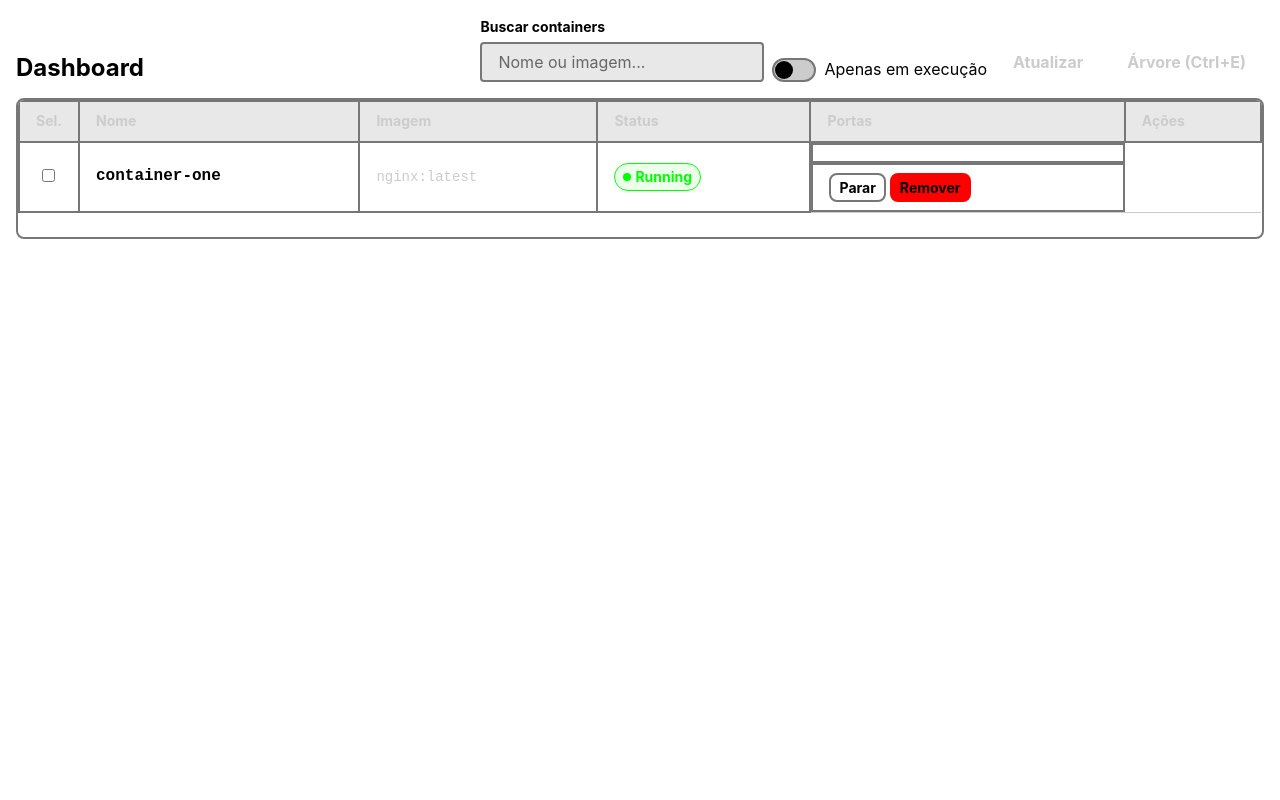
it: Dashboard › remove button opens confirm modal
Expected: the text "container-one" is shown, [79,142,359,212]
Click the button with test id "remove-c1": [930, 187] box [890,173,971,202]
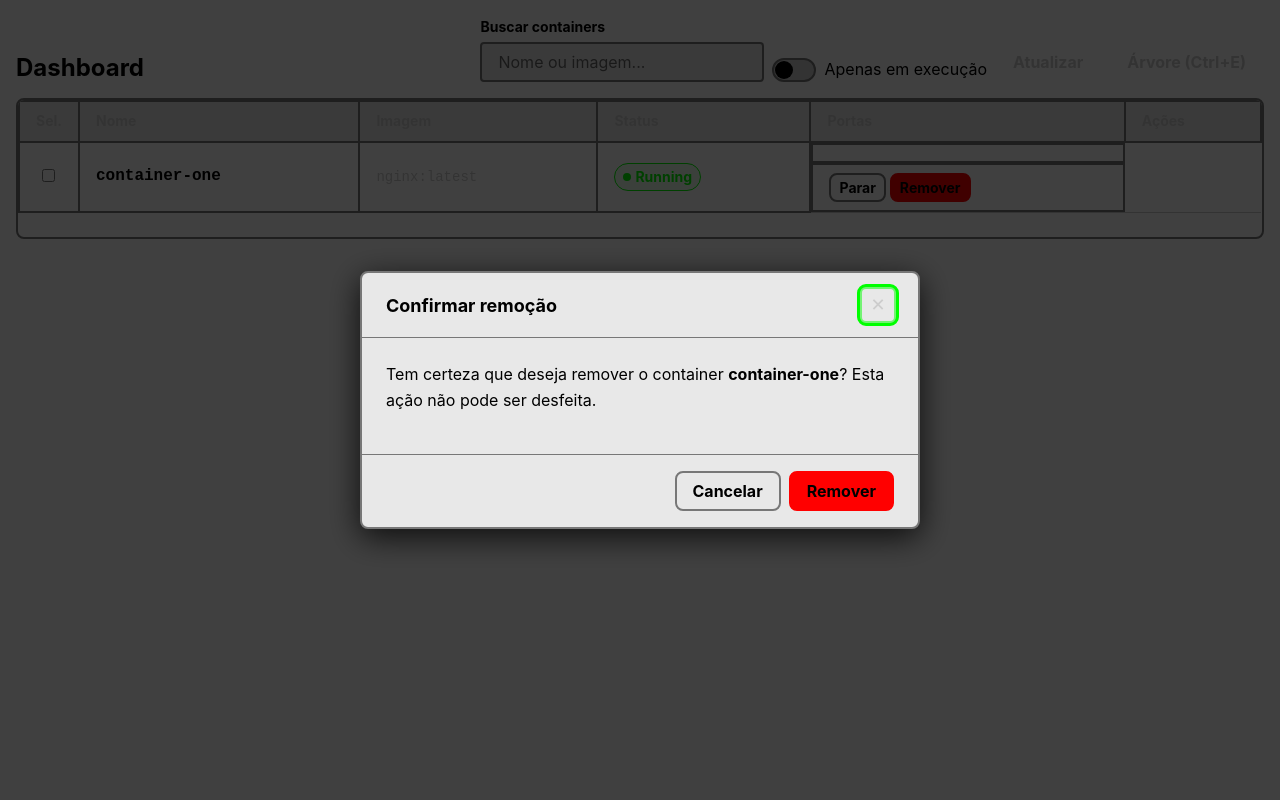
Result: the dialog "Confirmar remoção" is shown at [360,271,920,529]
